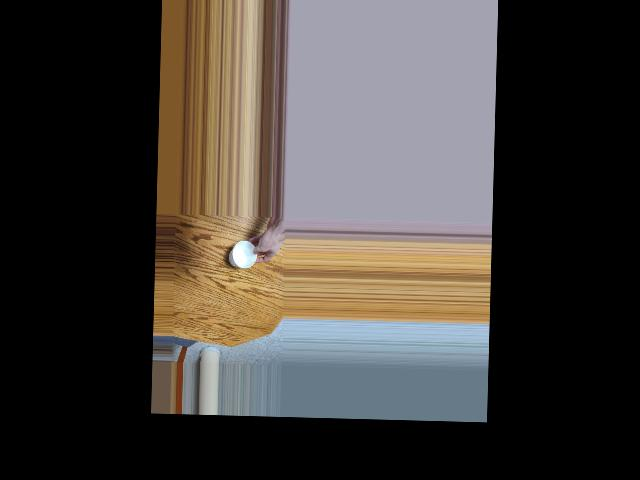cotage: (229, 235, 262, 273)
